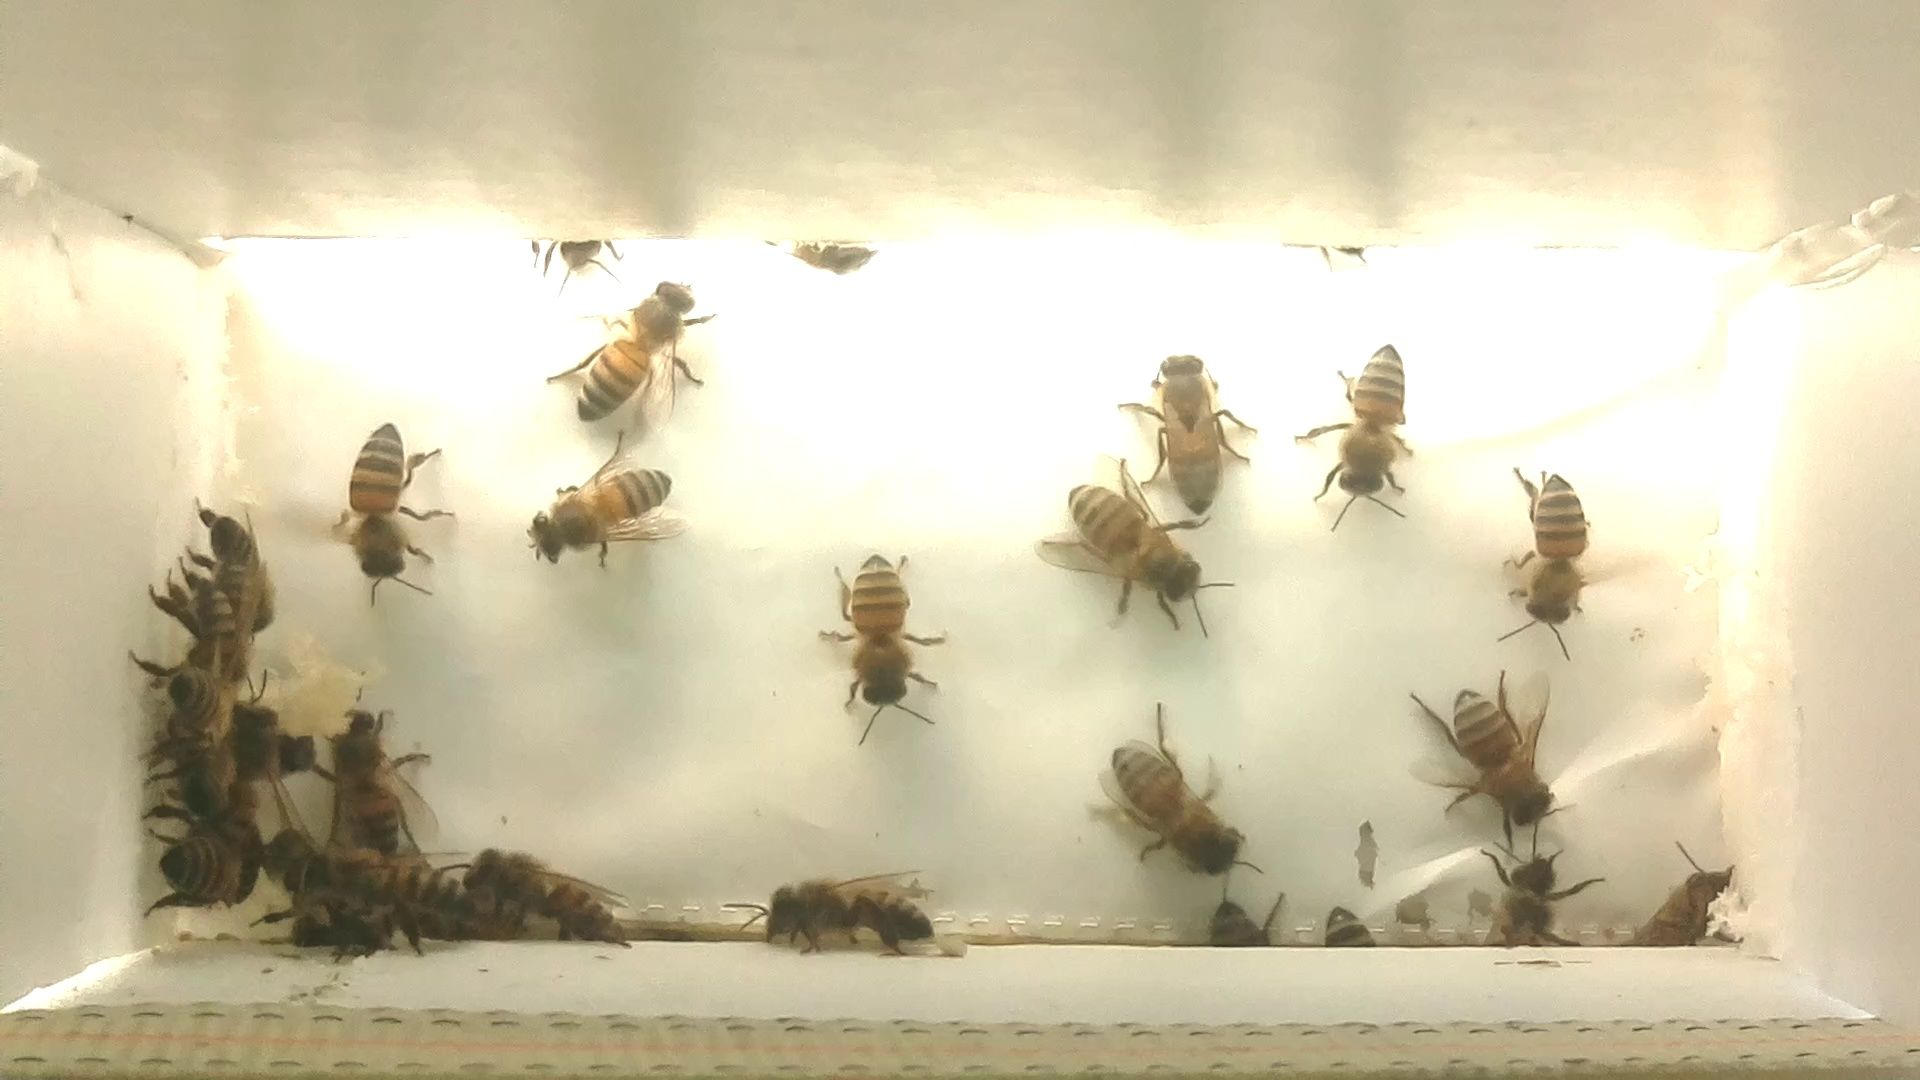bee: (1079, 688, 1276, 911), (1029, 459, 1242, 646), (549, 256, 742, 451), (796, 531, 961, 756), (298, 405, 467, 618), (1399, 663, 1584, 851), (1482, 446, 1626, 676), (1284, 323, 1431, 541), (1106, 328, 1257, 525), (509, 434, 688, 585), (721, 856, 944, 971), (303, 686, 433, 872), (448, 839, 646, 960), (273, 837, 471, 948), (1472, 824, 1606, 963), (169, 485, 284, 641), (142, 574, 276, 696), (1643, 831, 1753, 963), (128, 647, 247, 766), (148, 808, 258, 924), (746, 219, 901, 294), (502, 215, 634, 294), (1193, 885, 1288, 961), (1303, 895, 1396, 967)
